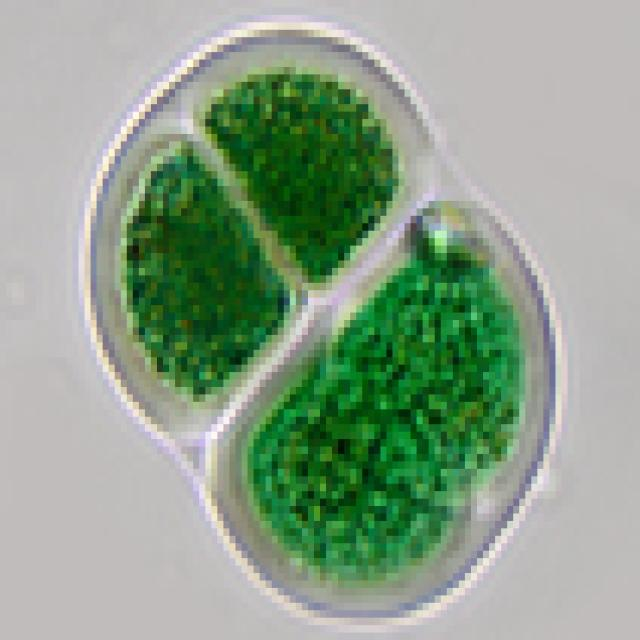Blue Green Algae: (247, 350, 459, 580), (115, 134, 296, 402), (338, 253, 525, 484), (200, 67, 398, 283)
